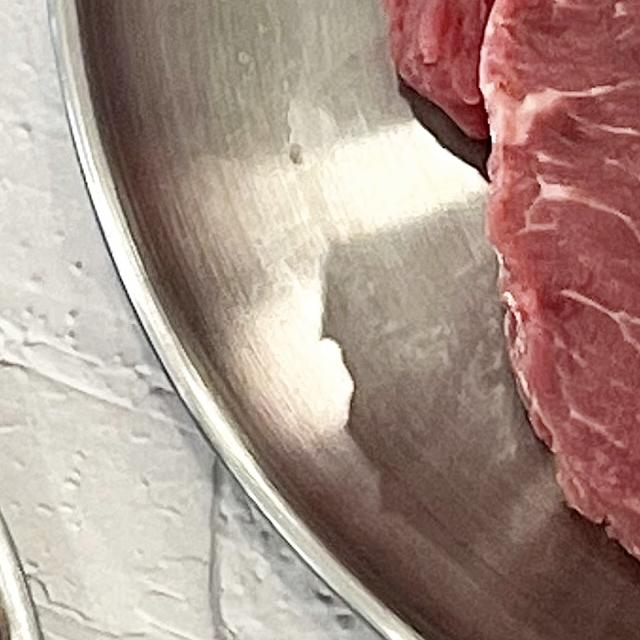beef: (410, 0, 640, 569)
